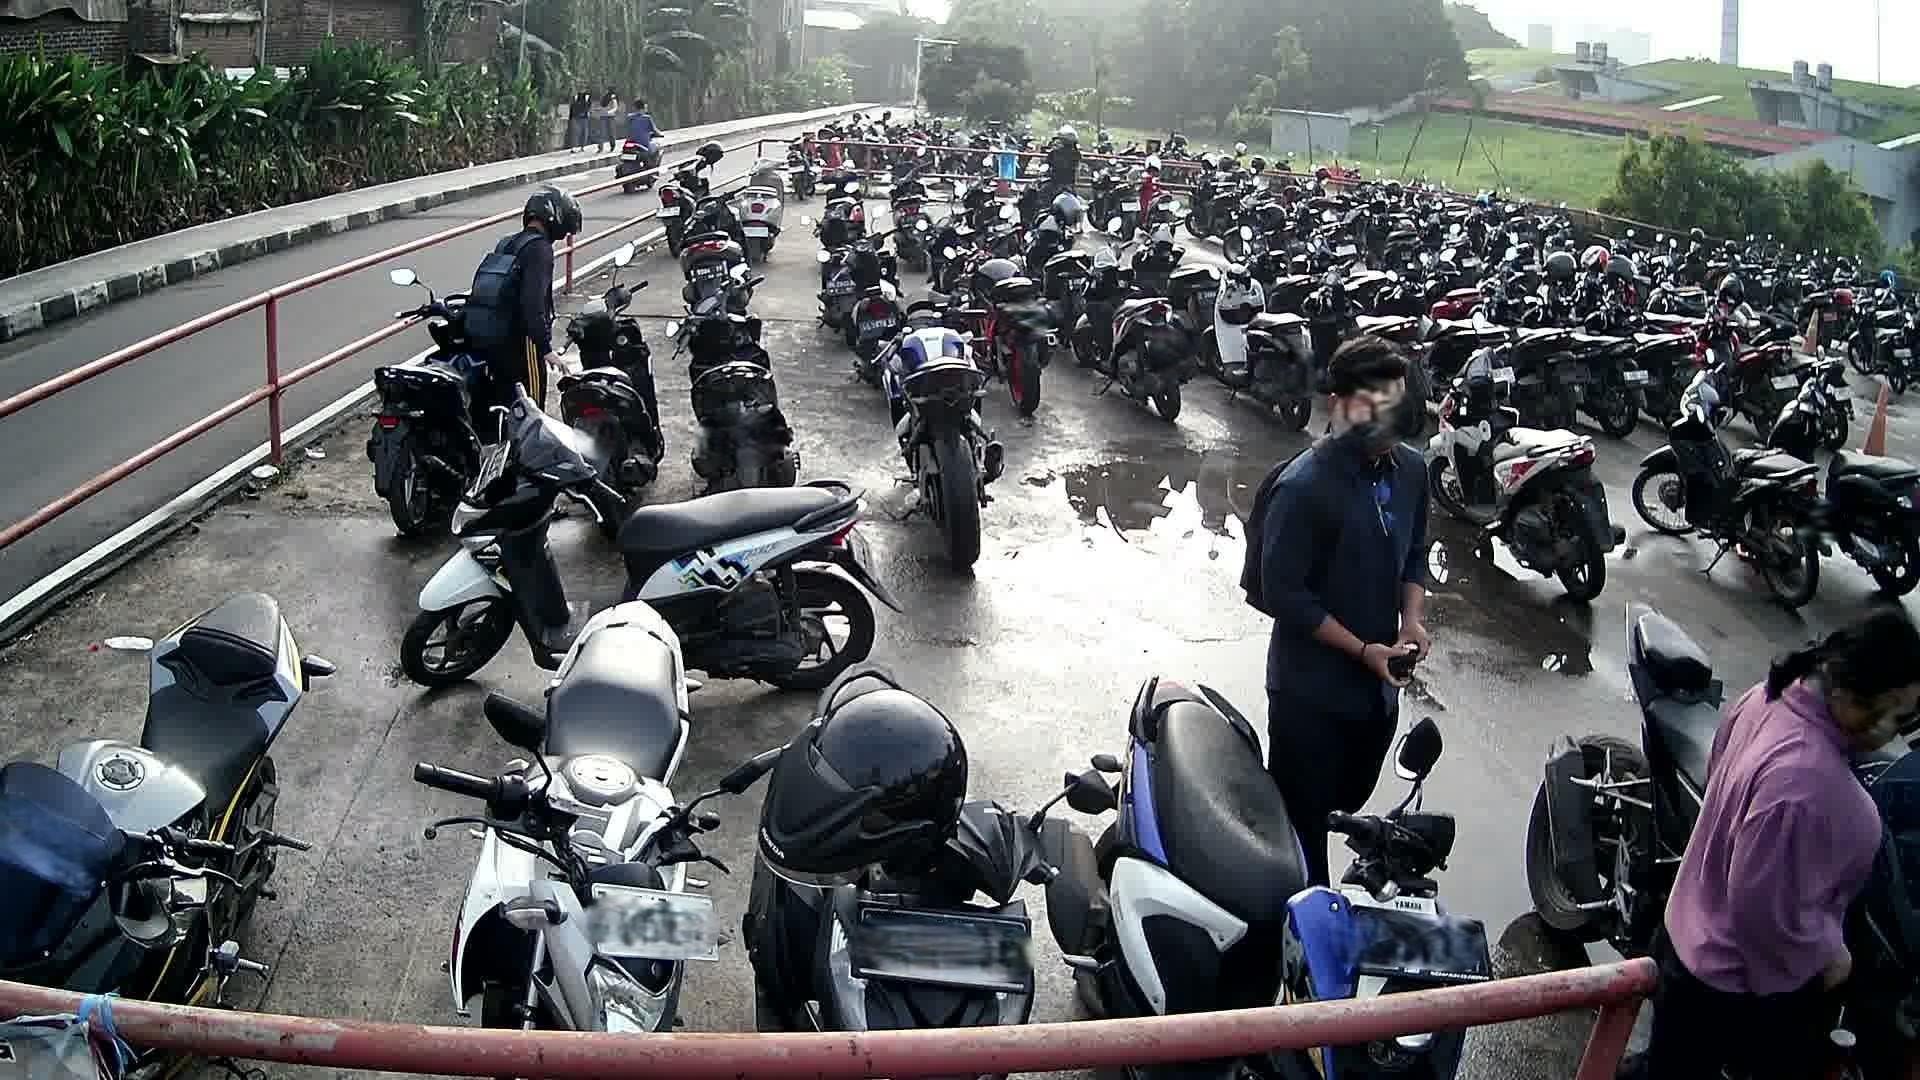motorcycle: (398, 385, 901, 691), (415, 597, 741, 1036), (1047, 674, 1491, 989), (0, 589, 339, 996), (742, 658, 1052, 1025), (1633, 357, 1836, 616), (1431, 345, 1638, 597), (877, 294, 1011, 575), (1778, 376, 1920, 596), (665, 268, 803, 480), (563, 251, 671, 510), (367, 260, 463, 529)
